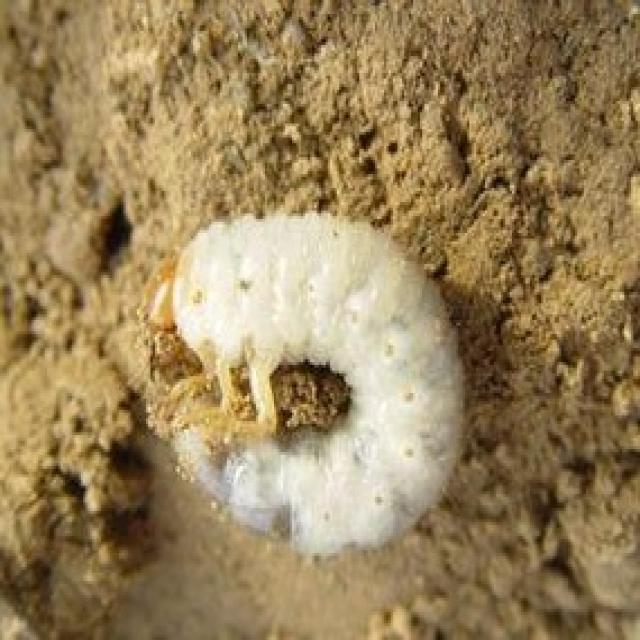grub: (144, 207, 474, 564)
